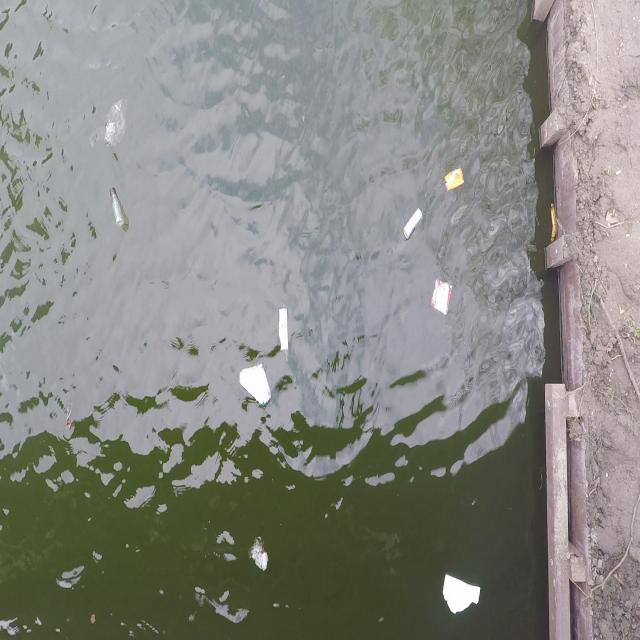Autre plastique: (434, 570, 484, 619), (426, 270, 456, 323), (436, 164, 467, 194)
Bouteille plastique: (106, 183, 127, 234)
Non plastique: (274, 294, 294, 366), (400, 202, 424, 246)
Sac plastique: (83, 82, 131, 158)
